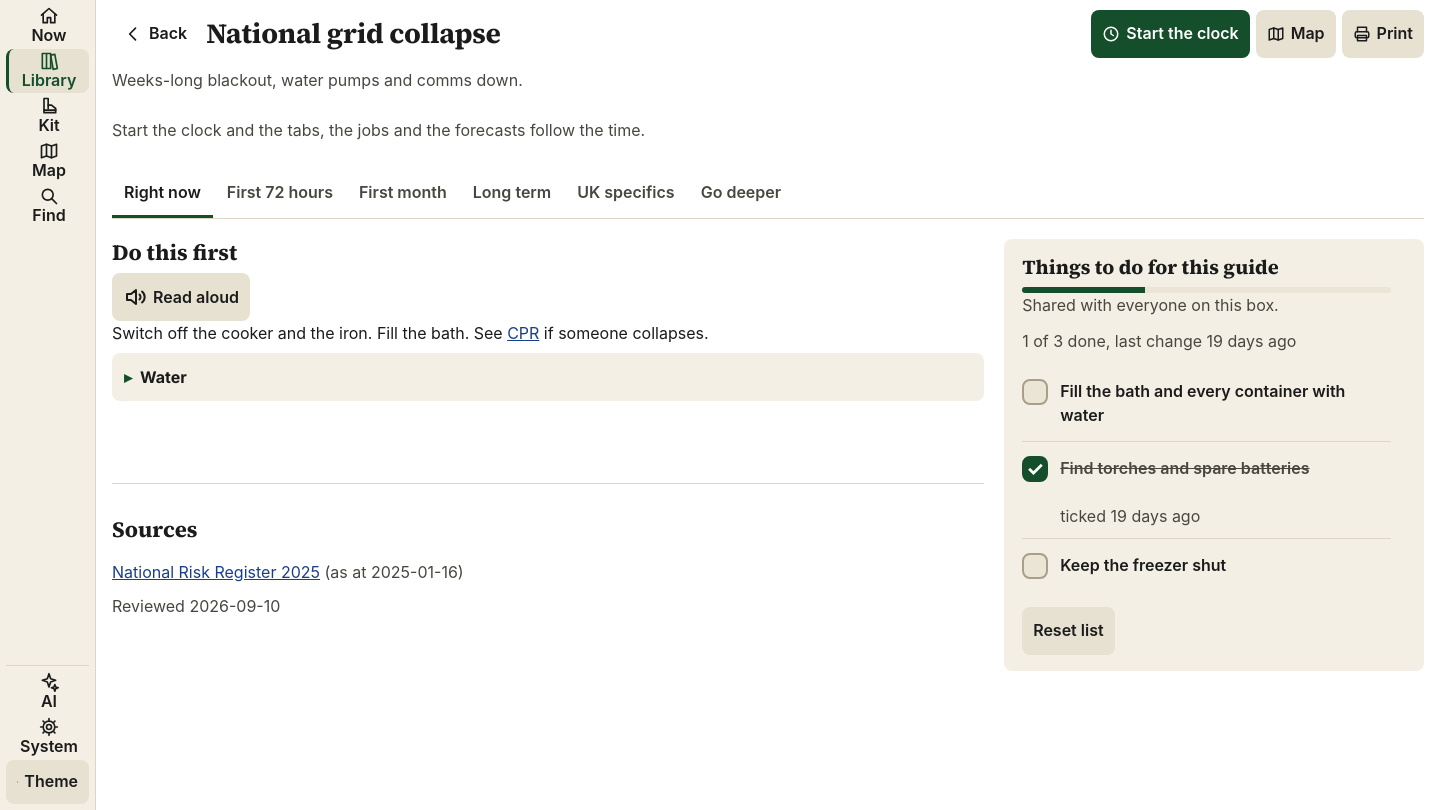
Situation clock › starts the clock from the playbook and marks the current phase tab
The width and height of the screenshot is (1440, 810).
Click the button "Start the clock" at x=1171, y=34, box [1091,10,1250,58]
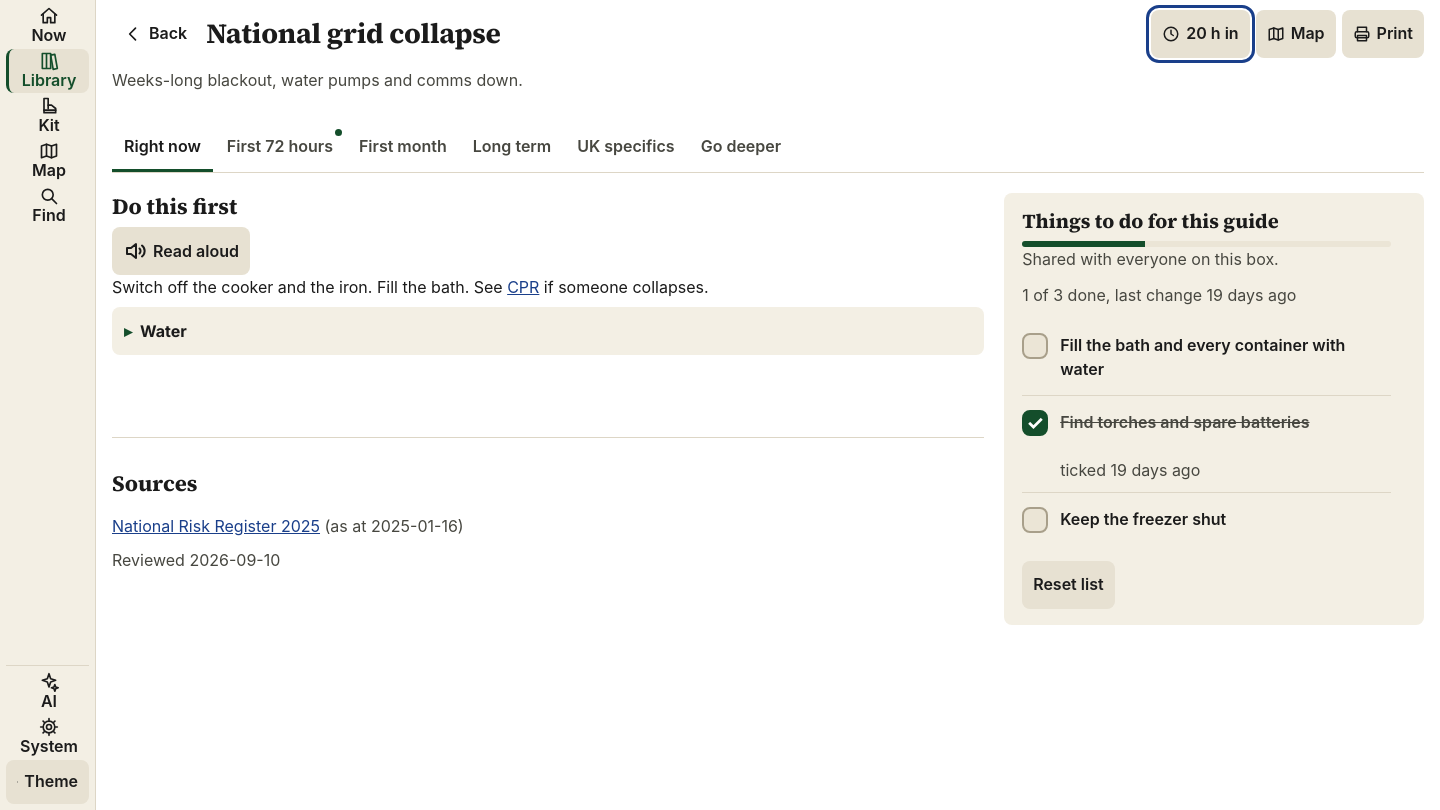
Check: the button "End situation" is not shown
Check: the message reads "20 h in"
Check: the button with aria-label "20 h in, first 72 hours" is shown
Click the button "20 h in" at x=1200, y=34, box [1151,10,1250,58]
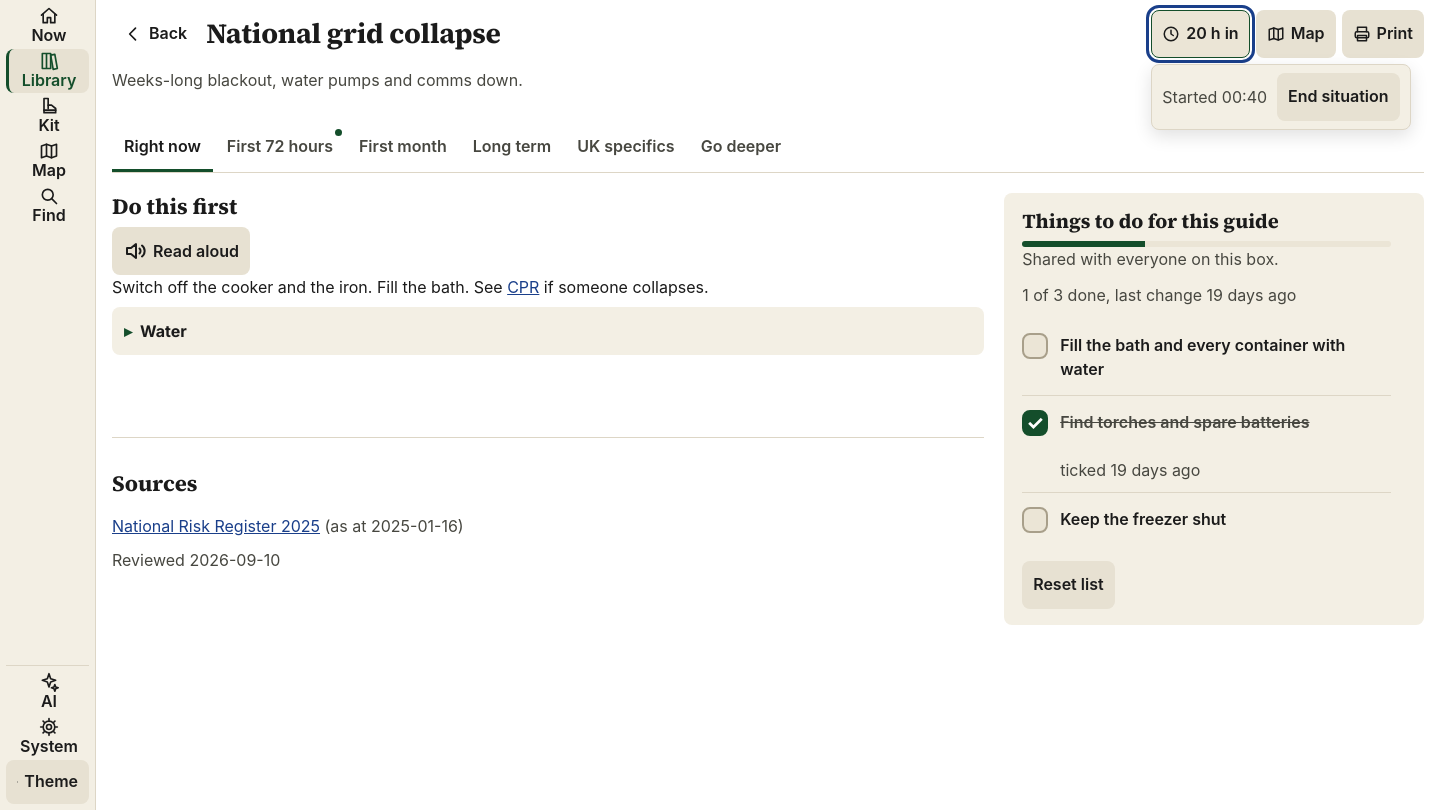
Check: the element with class "tab-now" is shown, box [335,129,342,136]
Check: the button "End situation" is shown, box [1277,73,1400,121]
Check: the text "Started 00:40" is shown, box [1162,85,1267,109]
